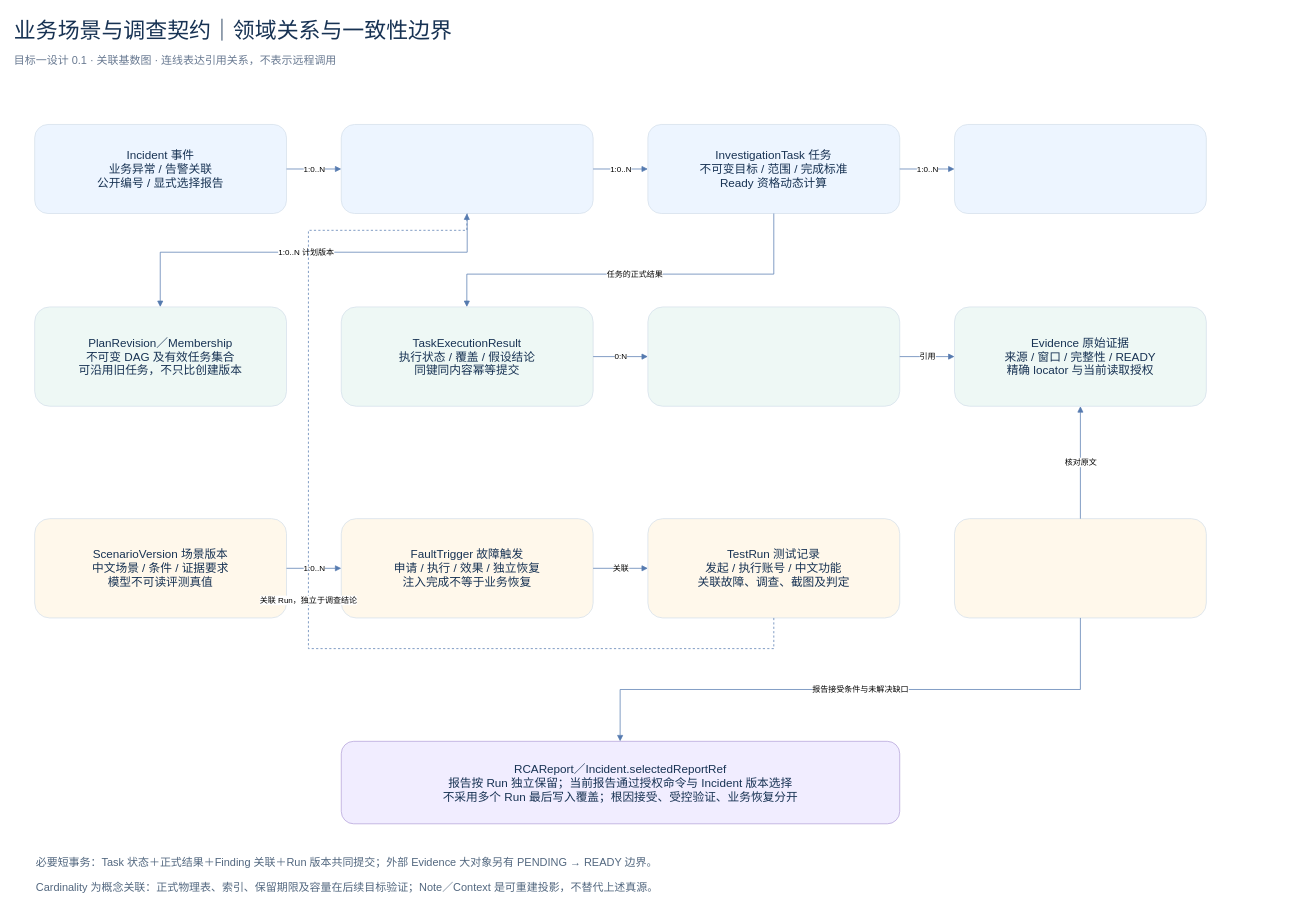
The diagram is 1295 pixels wide and 915 high, and some of its shapes have lost their labels. Each missing label, with the centre of its shape:
Finding 调查发现 命题 / 支持 / 反证 / 缺口 有引用不等于因果成立: pixel 773 356
InvestigationRun 调查 生命周期＋阶段＋独立结论 预算 / Owner / Epoch / 版本: pixel 467 169
ReviewResult／ReviewIssue 绑定候选与被审状态版本 审核决定 / 反证 / 补证缺口: pixel 1080 568
TaskAttempt 执行尝试 每次重试与接管有独立身份 旧尝试不恢复执行权: pixel 1080 169
